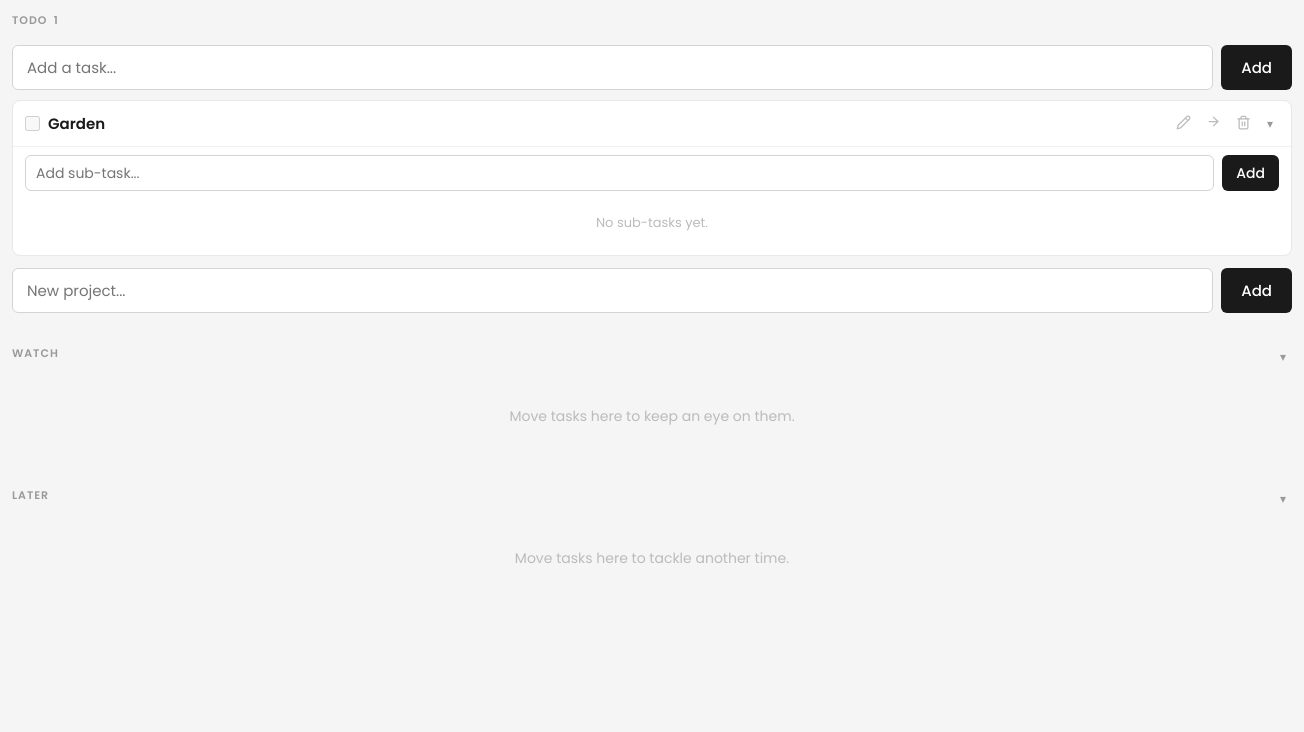
Scenario: project rename button › opens the rename field when the Rename button is clicked
Click the button named "Rename project" at (1184, 124), box [1170, 112, 1197, 135]
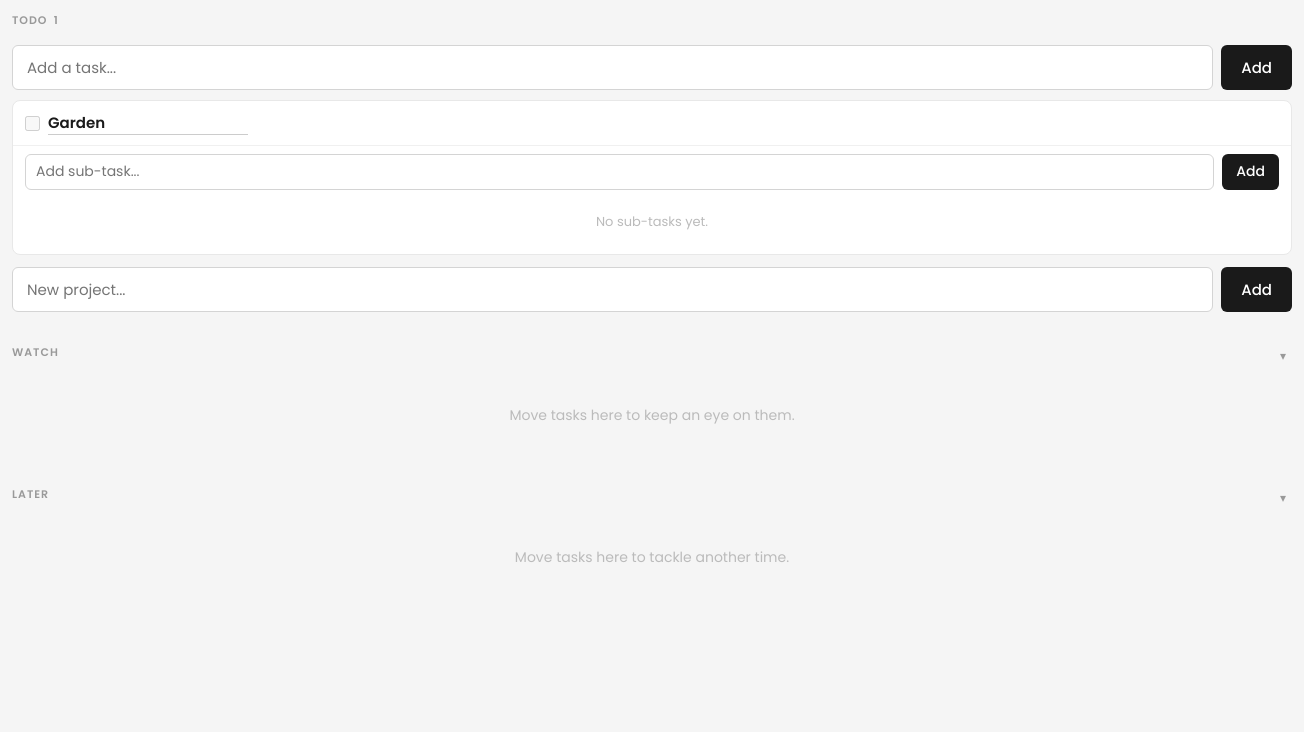
Result: the field showing "Garden" is shown at [48, 111, 248, 135]
